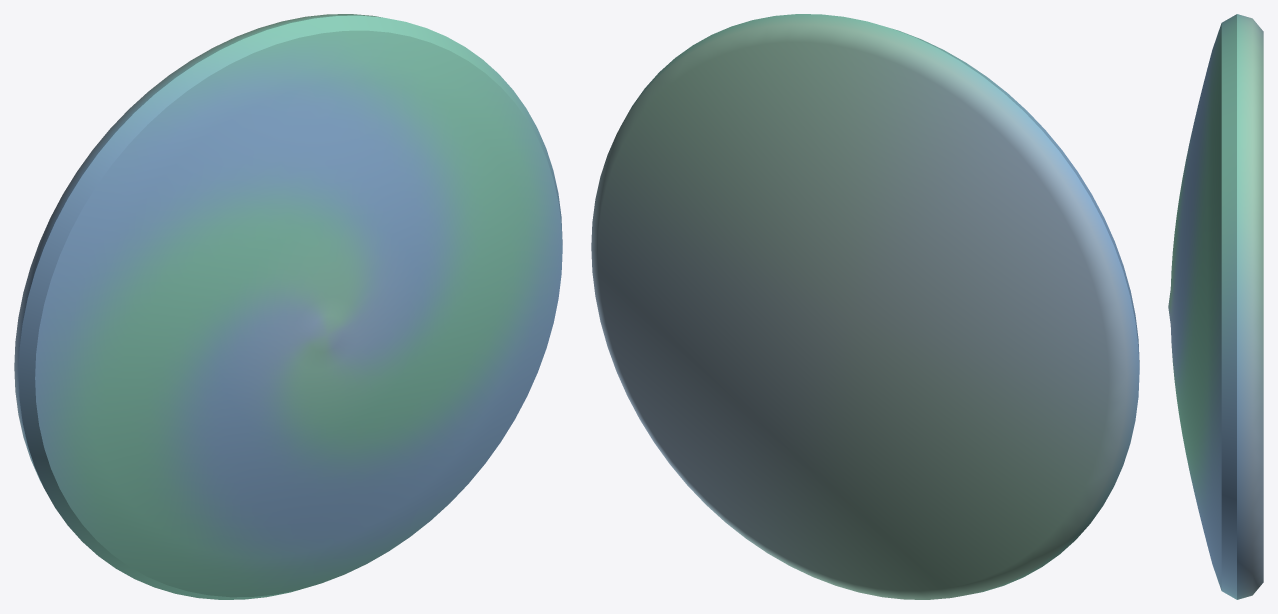
File: Shield_Disc.fbx
3 views of the same model, side by side, from view 1: azimuth 30°, elevation 25°; view 2: azimuth 150°, elevation 25°; view 3: azimuth 270°, elevation 25° (orthographic). The views are drawn at different scales.
Parts seen in each view (by area): view 1: Shield_Disc; view 2: Shield_Disc; view 3: Shield_Disc.
Part boxes in pixels (x1,y1,x2,y2): Shield_Disc: (14,14,562,599); Shield_Disc: (591,14,1139,599); Shield_Disc: (1168,14,1263,599).
Size of the model in its own units: 0.264 by 0.264 by 0.043.
